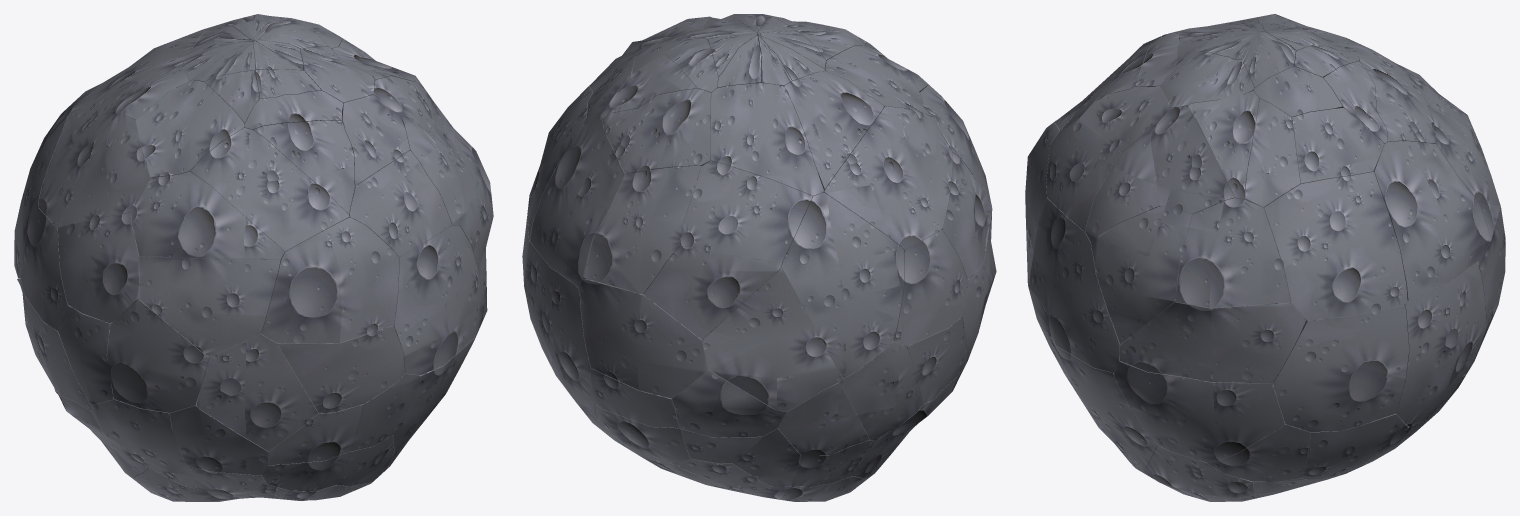
3 views of the same model, side by side, from view 1: azimuth 30°, elevation 25°; view 2: azimuth 150°, elevation 25°; view 3: azimuth 270°, elevation 25° (orthographic).
Parts seen in each view (by area): view 1: Sphere_cell.048, Sphere_cell.070, Sphere_cell.051, Sphere_cell.002, Sphere_cell.032, Sphere_cell.013, Sphere_cell.041, Sphere_cell.024, Sphere_cell.052, Sphere_cell.033, Sphere_cell.079, Sphere_cell.038 (+36 smaller); view 2: Sphere_cell.043, Sphere_cell.032, Sphere_cell.046, Sphere_cell.027, Sphere_cell.018, Sphere_cell.037, Sphere_cell.029, Sphere_cell.069, Sphere_cell.058, Sphere_cell.053, Sphere_cell.066, Sphere_cell.095 (+34 smaller); view 3: Sphere_cell.025, Sphere_cell, Sphere_cell.029, Sphere_cell.012, Sphere_cell.098, Sphere_cell.088, Sphere_cell.051, Sphere_cell.066, Sphere_cell.082, Sphere_cell.055, Sphere_cell.036, Sphere_cell.038 (+27 smaller).
Part boxes in pixels (x1,y1,x2,y2): Sphere_cell.048: [261, 217, 399, 343]; Sphere_cell.070: [139, 256, 280, 356]; Sphere_cell.051: [393, 225, 482, 375]; Sphere_cell.002: [190, 128, 349, 252]; Sphere_cell.032: [38, 113, 151, 227]; Sphere_cell.013: [131, 171, 284, 258]; Sphere_cell.041: [196, 333, 318, 451]; Sphere_cell.024: [107, 299, 209, 412]; Sphere_cell.052: [58, 212, 139, 322]; Sphere_cell.033: [278, 325, 404, 413]; Sphere_cell.079: [135, 80, 244, 177]; Sphere_cell.038: [347, 150, 451, 256]; Sphere_cell.043: [781, 192, 904, 378]; Sphere_cell.032: [823, 106, 952, 249]; Sphere_cell.046: [702, 267, 842, 411]; Sphere_cell.027: [578, 278, 708, 398]; Sphere_cell.018: [584, 165, 701, 293]; Sphere_cell.037: [680, 161, 812, 262]; Sphere_cell.029: [530, 118, 625, 287]; Sphere_cell.069: [710, 82, 823, 196]; Sphere_cell.058: [643, 245, 781, 339]; Sphere_cell.053: [602, 88, 711, 173]; Sphere_cell.066: [524, 241, 597, 418]; Sphere_cell.095: [784, 71, 884, 189]; Sphere_cell.025: [1264, 172, 1407, 320]; Sphere_cell: [1273, 305, 1409, 431]; Sphere_cell.029: [1373, 140, 1491, 300]; Sphere_cell.012: [1120, 302, 1306, 382]; Sphere_cell.098: [1114, 361, 1284, 461]; Sphere_cell.088: [1175, 198, 1290, 308]; Sphere_cell.051: [1029, 198, 1128, 372]; Sphere_cell.066: [1396, 261, 1485, 426]; Sphere_cell.082: [1091, 206, 1192, 344]; Sphere_cell.055: [1151, 105, 1234, 214]; Sphere_cell.036: [1292, 107, 1384, 183]; Sphere_cell.038: [1046, 117, 1120, 231].
Size of the model in its own units: 2.03 by 2.11 by 2.06.
1 material, 1 textured.
